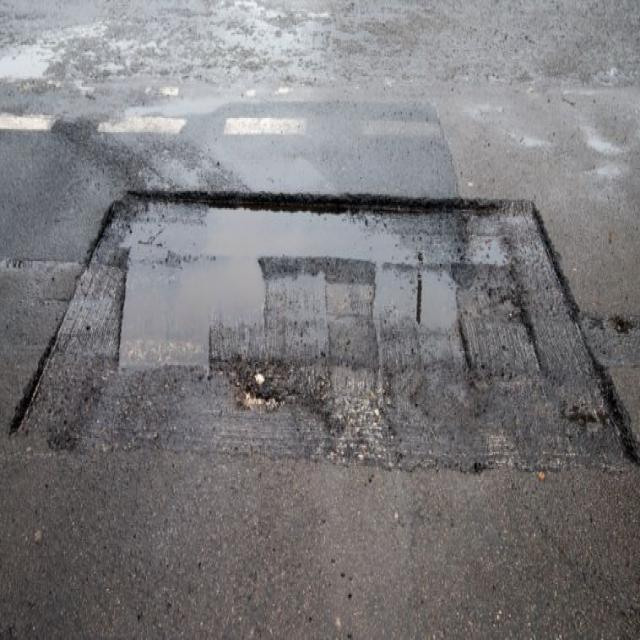Pothole: (5, 174, 633, 484)
